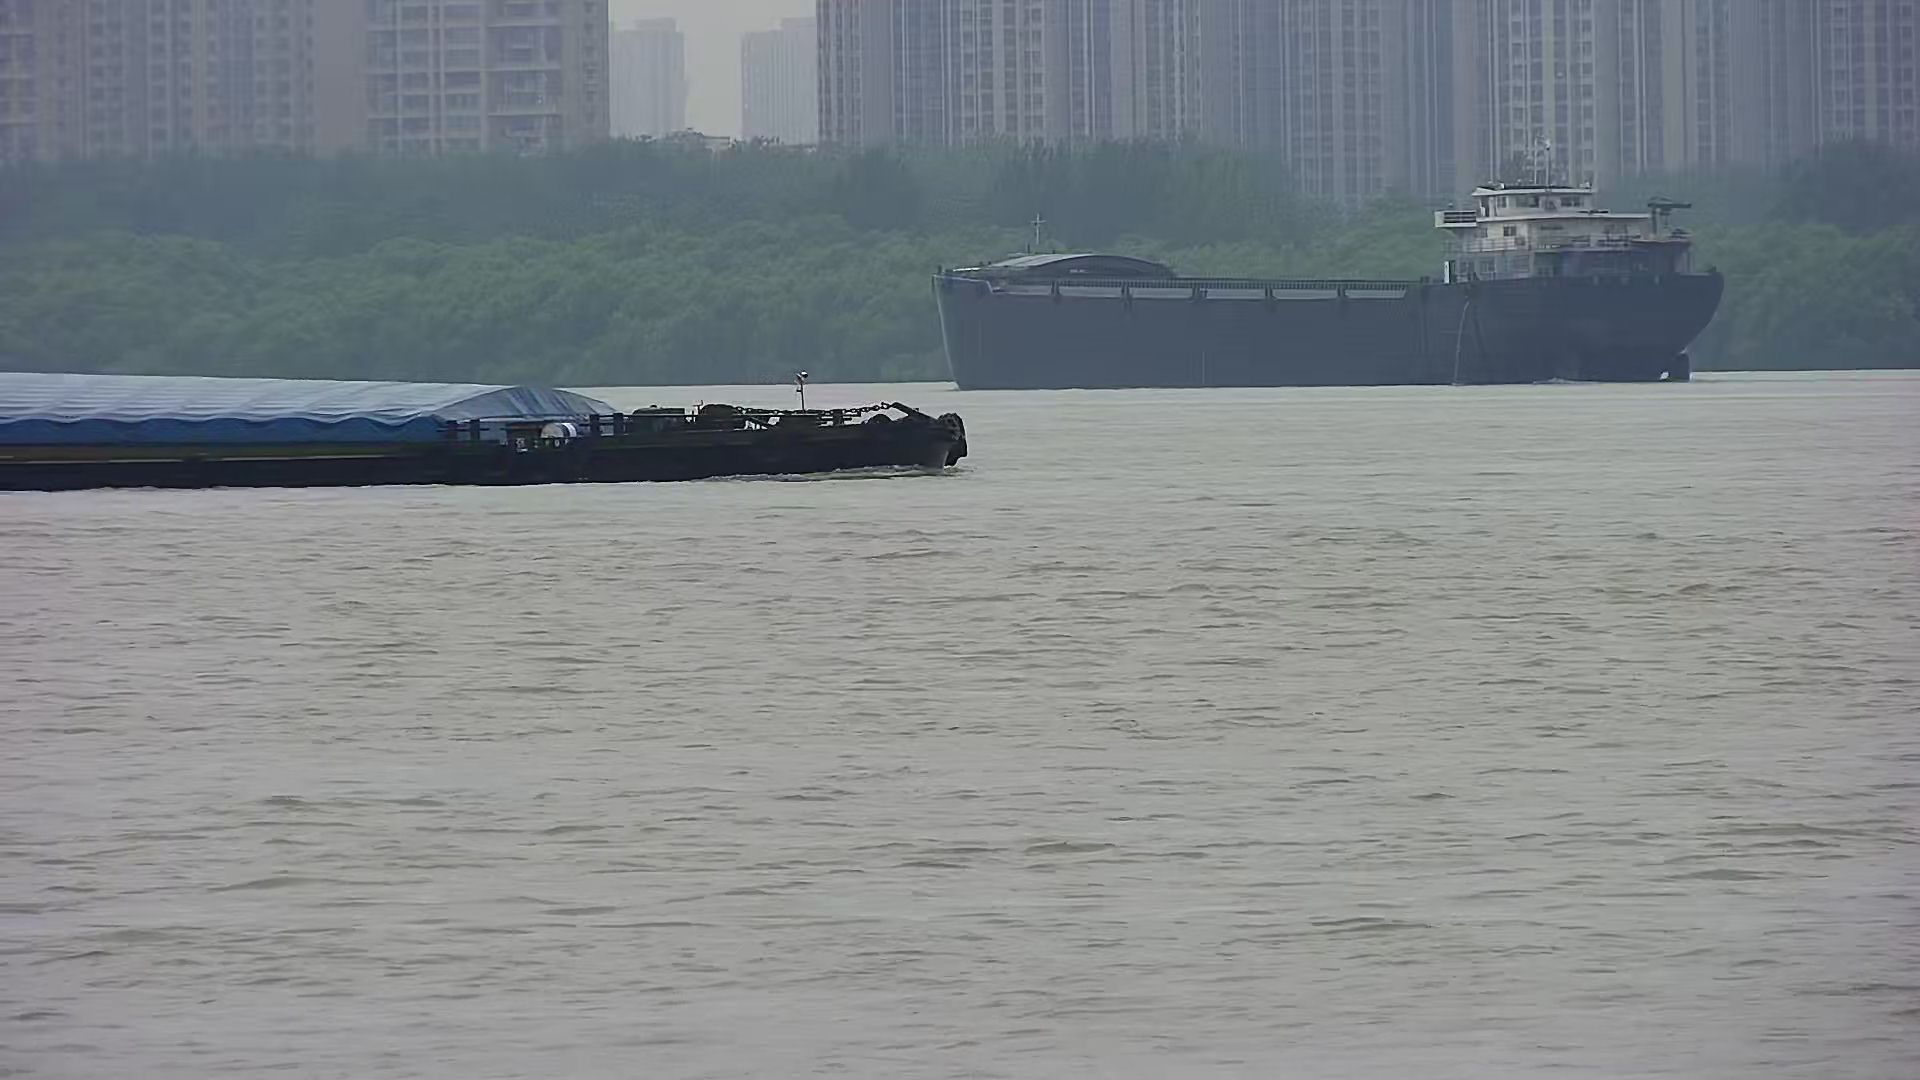ship: (930, 133, 1721, 386), (1, 376, 967, 488)
